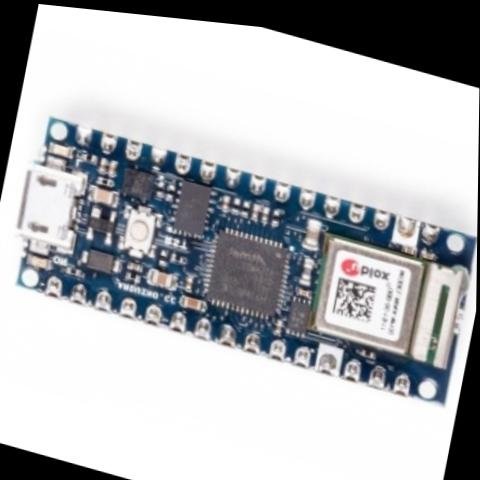Arduino-Nano: (0, 101, 479, 416)
